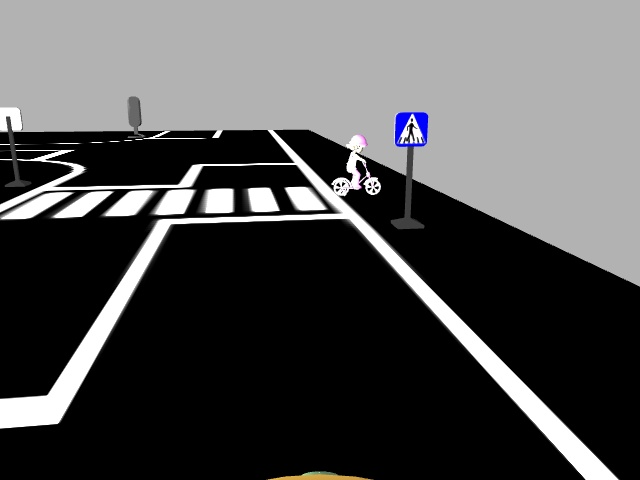Crosswalk: (392, 108, 429, 146)
Pedestrian: (324, 130, 384, 196)
